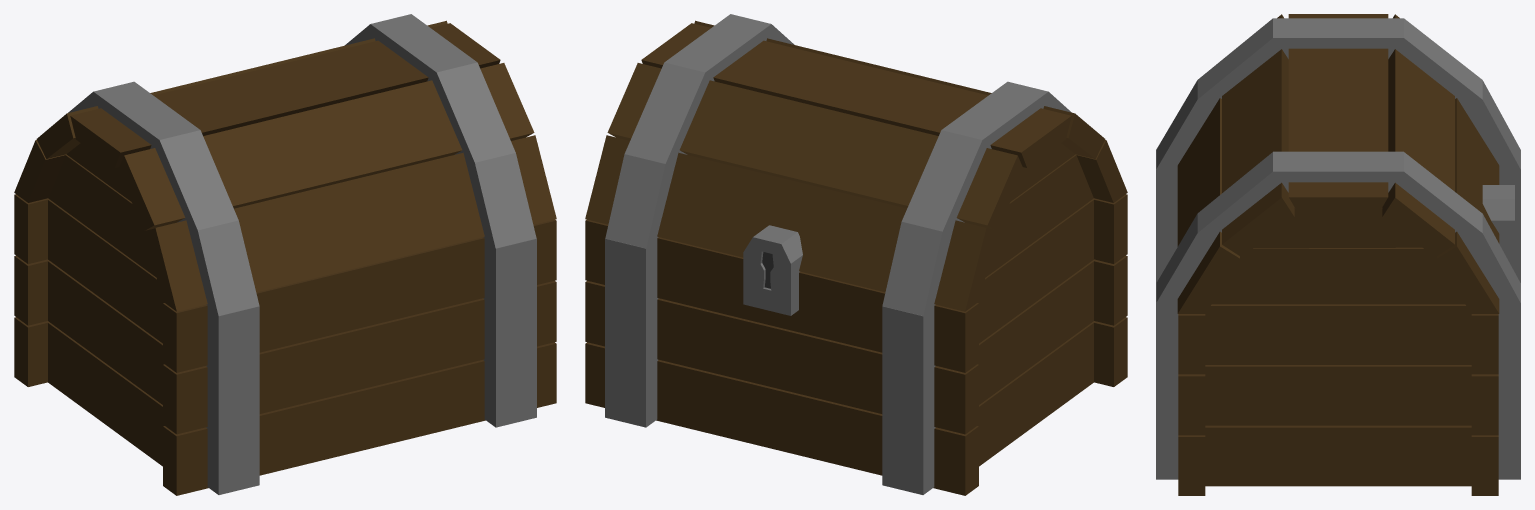
Rendered from Chest.fbx.
The picture shows the model from 3 angles, left to right: view 1: azimuth 30°, elevation 25°; view 2: azimuth 150°, elevation 25°; view 3: azimuth 270°, elevation 25°; orthographic projection.
Visible parts, largest first — view 1: Cube.005, Cube.007; view 2: Cube.005, Cube.007; view 3: Cube.005, Cube.007.
Part boxes in pixels (<box>): Cube.005: <box>14,14,556,316</box>; Cube.007: <box>14,194,556,495</box>; Cube.005: <box>585,14,1127,316</box>; Cube.007: <box>585,194,1127,495</box>; Cube.005: <box>1156,14,1520,313</box>; Cube.007: <box>1156,150,1520,495</box>.
Size of the model in its own units: 2.69 by 2.26 by 2.12.
